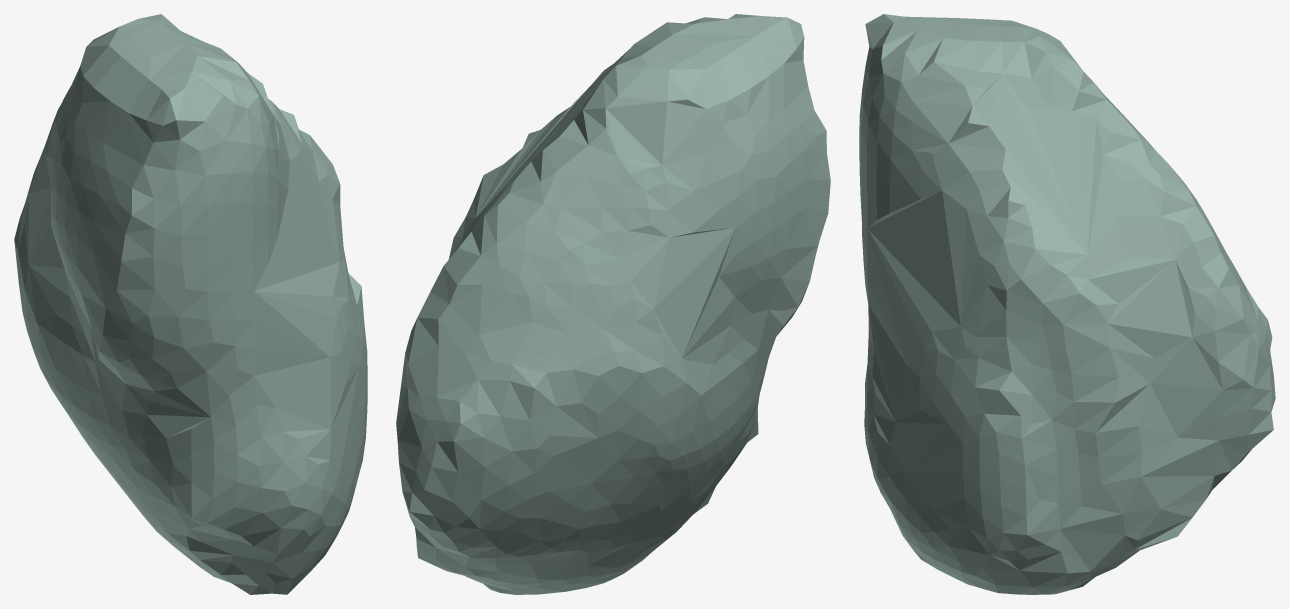
The model's file is Model_10224_LH__Substantia_nigra__lateral_part_(SNL).obj.
3 views of the same model, side by side, from view 1: azimuth 30°, elevation 25°; view 2: azimuth 150°, elevation 25°; view 3: azimuth 270°, elevation 25° (orthographic). The views are drawn at different scales.
Size of the model in its own units: 1.09 by 1.89 by 1.42.
